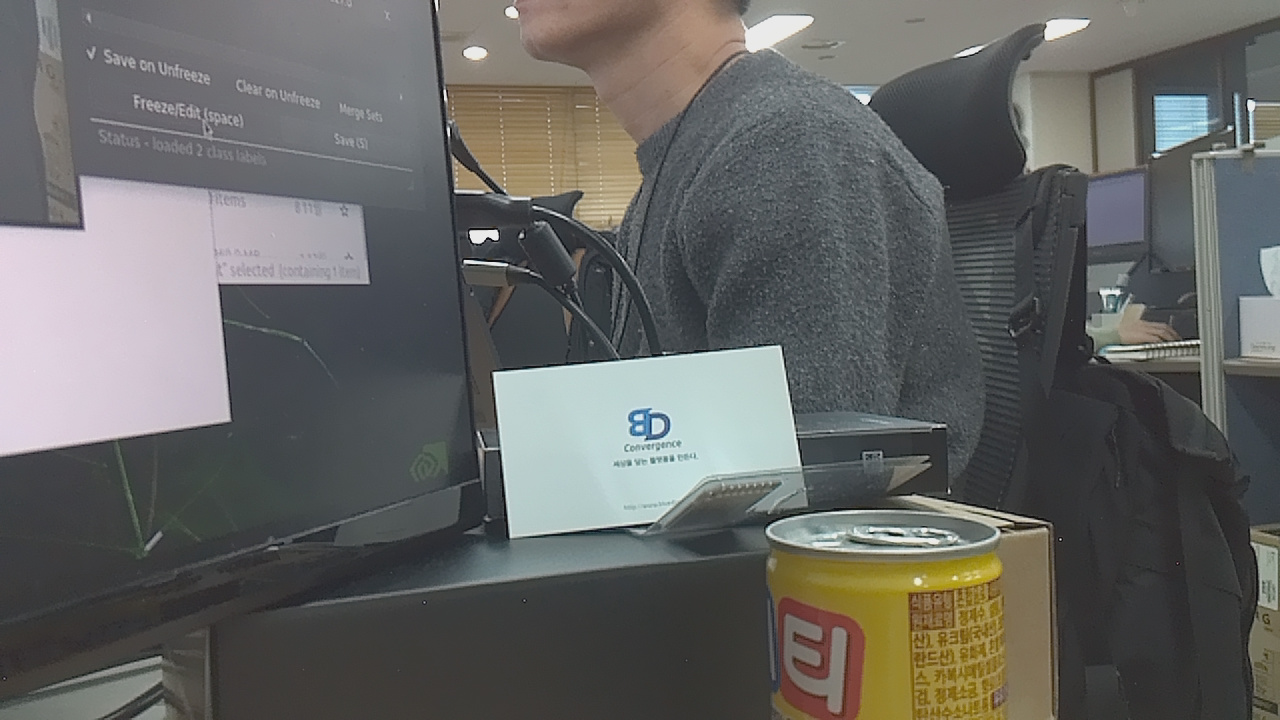BD: (600, 389, 720, 485)
